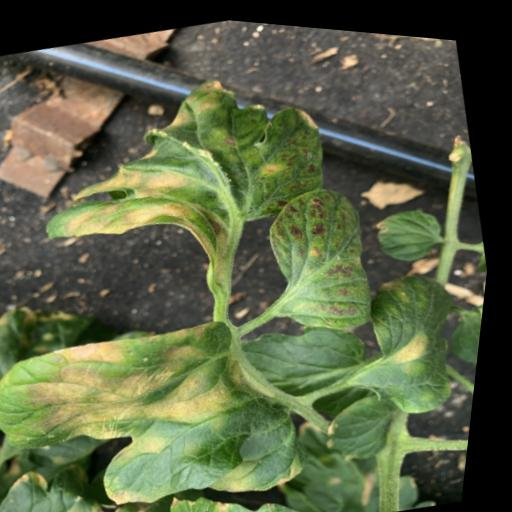Leaf Mold: (14, 40, 359, 318), (0, 284, 337, 512), (342, 252, 488, 420), (256, 171, 395, 340), (2, 434, 199, 512)
